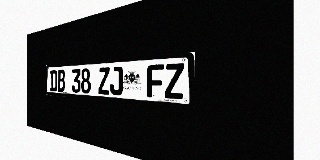3: (72, 69, 81, 93)
8: (81, 68, 91, 94)
B: (58, 70, 65, 92)
D: (50, 70, 57, 92)
F: (147, 64, 164, 98)
J: (110, 66, 123, 96)
Z: (165, 63, 184, 99), (98, 67, 110, 95)
